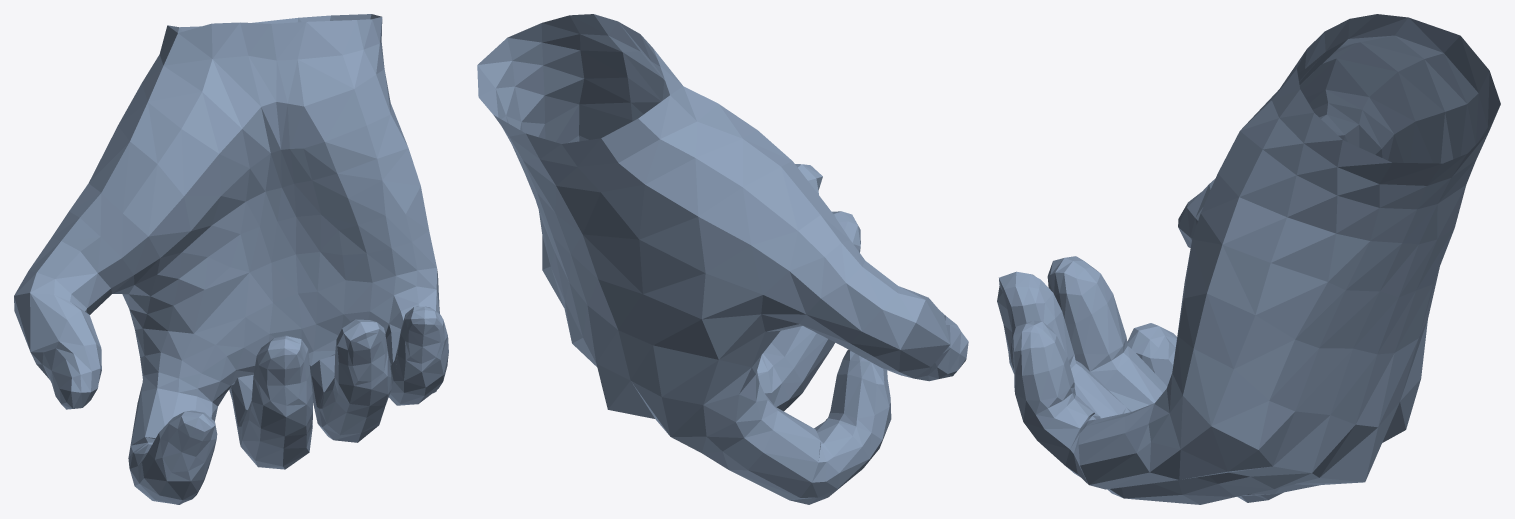
File: P01_01_42273_right_hand.obj
3 renders of one model, left to right at view 1: azimuth 30°, elevation 25°; view 2: azimuth 150°, elevation 25°; view 3: azimuth 270°, elevation 25°, orthographic. The views are drawn at different scales.
Size of the model in its own units: 0.1272 by 0.132 by 0.1104.
